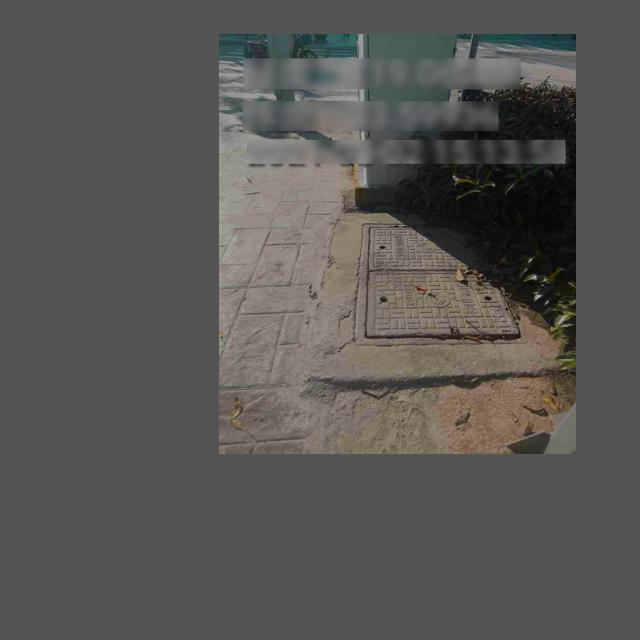good: (353, 223, 528, 343)
